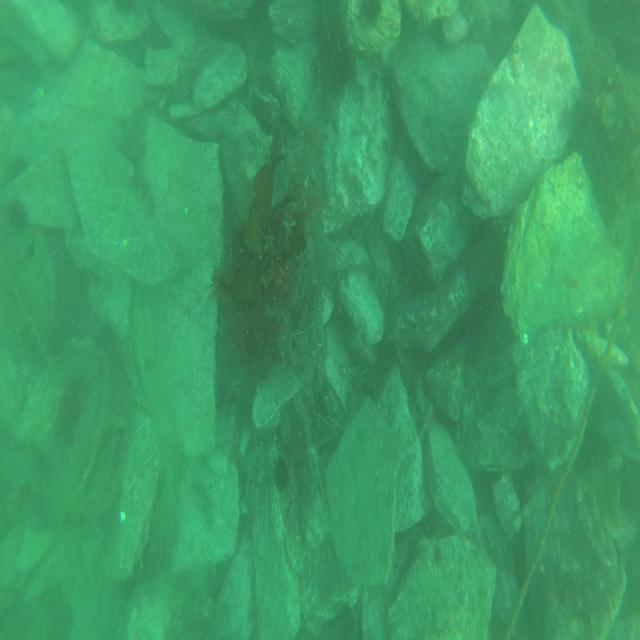echinus: (270, 455, 290, 497), (7, 199, 28, 237), (5, 153, 30, 182), (358, 2, 387, 26), (111, 2, 137, 23)
holothurian: (310, 2, 344, 85)
